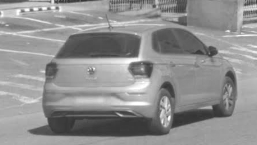car: (39, 11, 242, 136)
